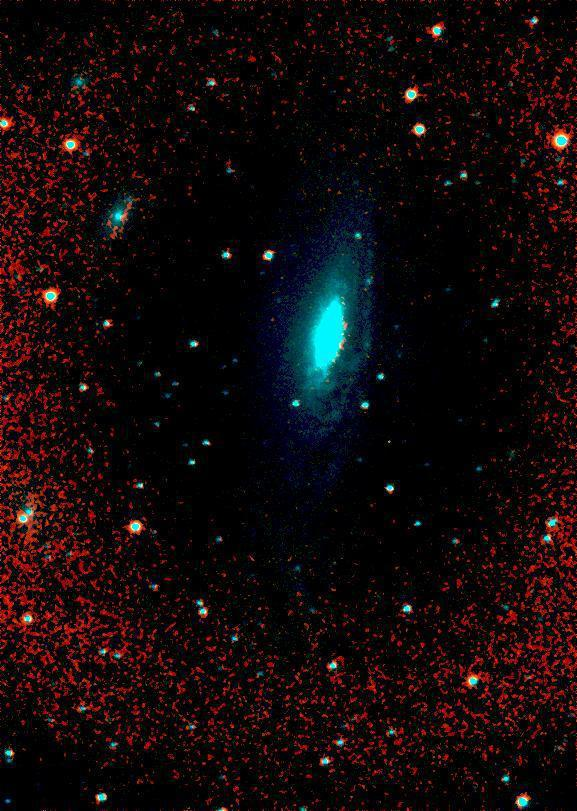star: (283, 285, 313, 315)
